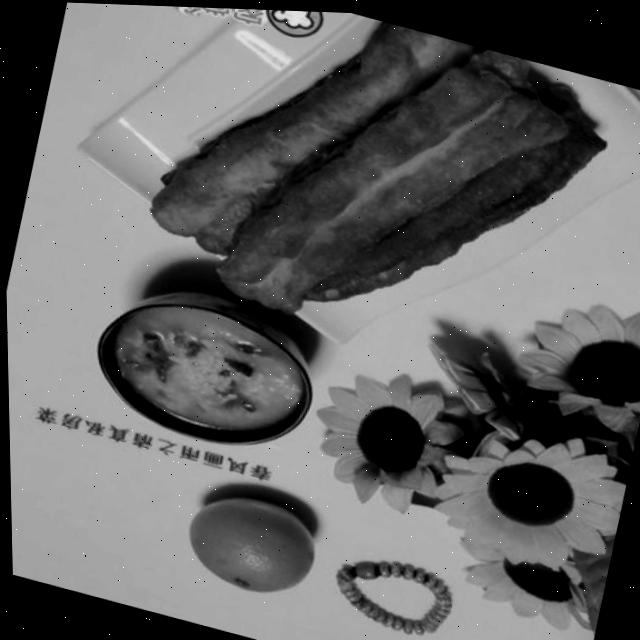炸货点心: (113, 3, 640, 420)
